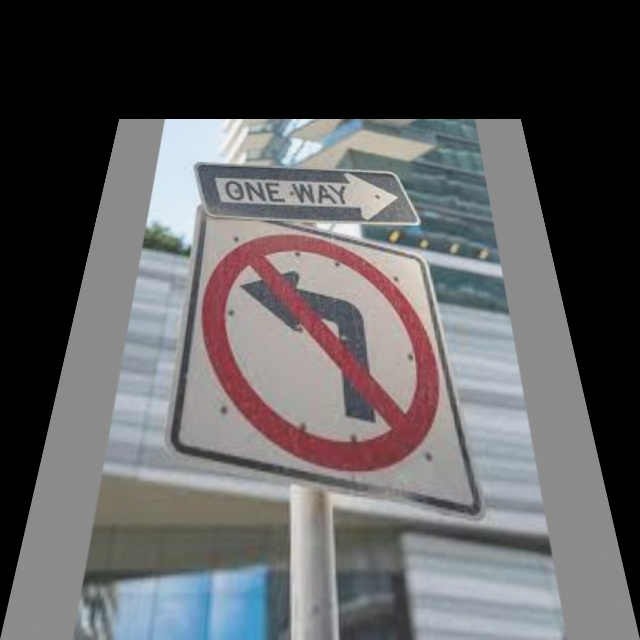Left_Turn_Prohibited: (180, 220, 457, 479)
